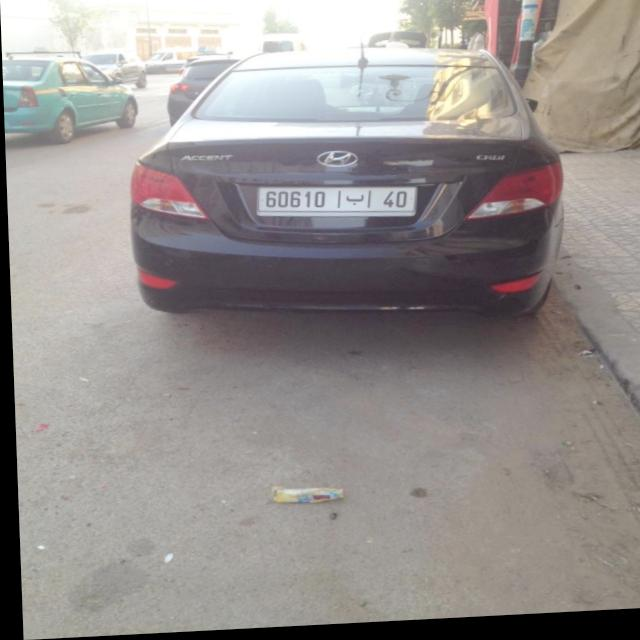License-Plate: (255, 190, 414, 221)
